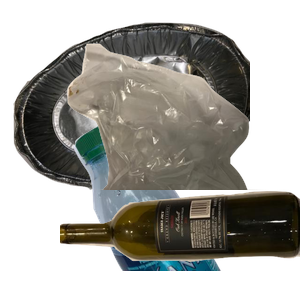glass: (60, 189, 300, 300)
metal: (11, 20, 251, 200)
plastic: (71, 120, 300, 300)
trash: (65, 41, 300, 221)
